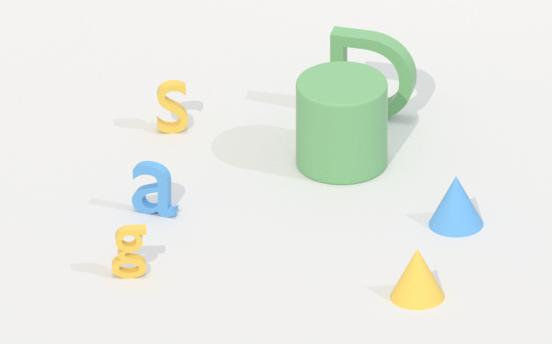a: (128, 157, 179, 220)
d: (328, 22, 419, 129)
g: (110, 221, 154, 282)
non: (385, 247, 450, 314), (425, 176, 489, 239)
s: (152, 78, 194, 137)
tru: (293, 59, 391, 187)
